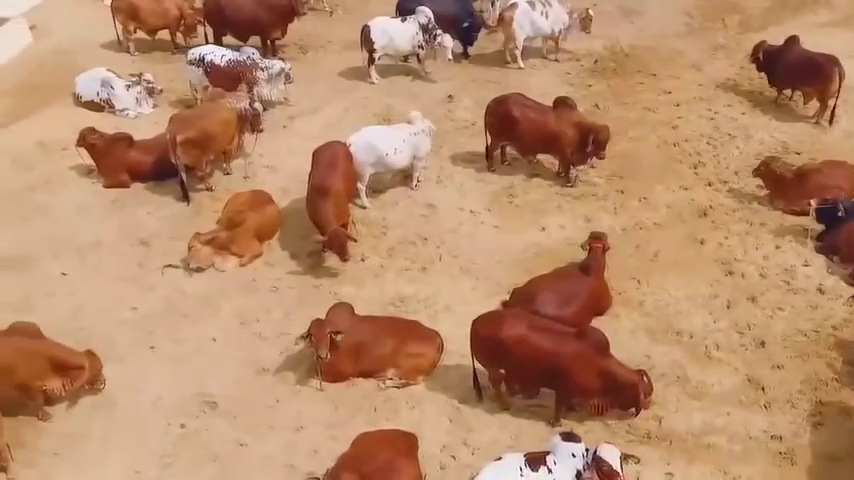bo: (457, 296, 656, 422), (297, 289, 452, 394), (470, 94, 624, 195), (7, 310, 110, 435), (490, 227, 627, 319), (743, 24, 853, 133), (172, 184, 287, 280), (448, 425, 645, 480), (339, 98, 437, 208), (167, 92, 268, 198), (348, 2, 464, 83), (298, 135, 365, 273), (72, 120, 189, 199), (179, 37, 303, 107), (489, 1, 603, 72), (59, 52, 156, 128), (747, 151, 854, 215), (307, 422, 425, 480), (389, 1, 492, 65), (202, 3, 315, 59), (102, 3, 206, 60), (803, 196, 854, 272)
